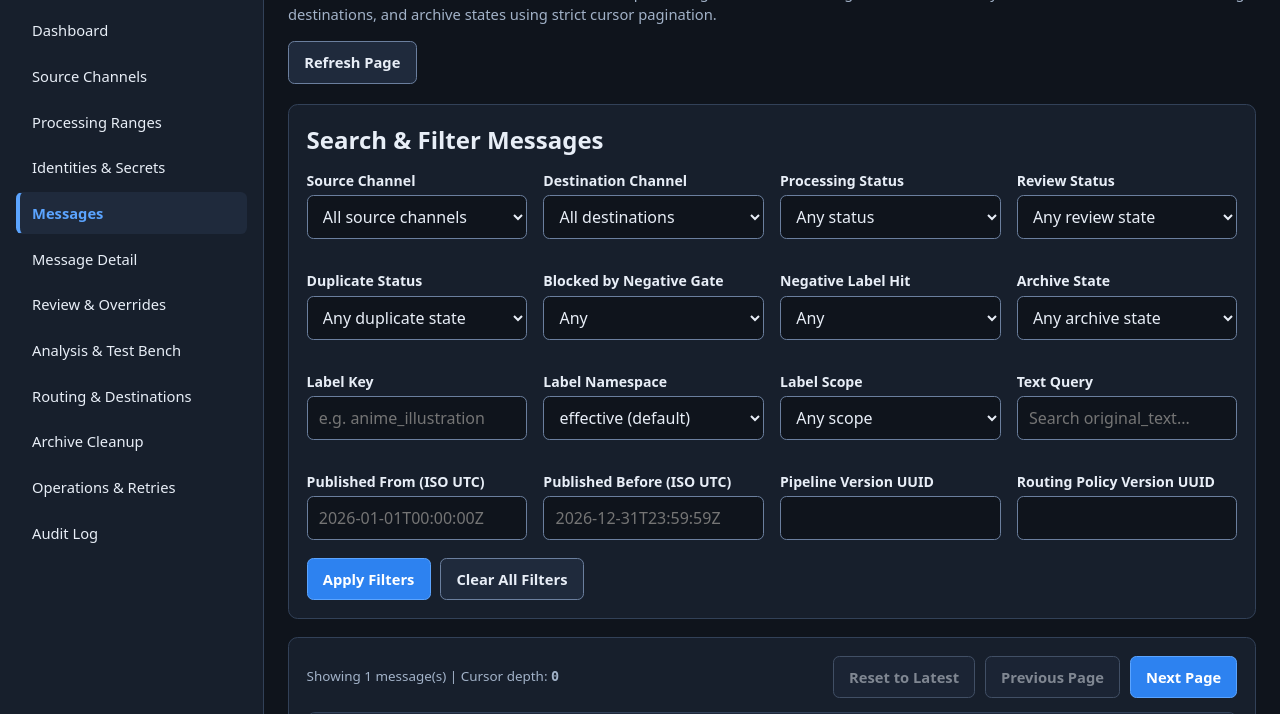
Test: TG-VLM-Curator M9 Web Administration Console › navigates cursor-paginated Messages into the 6-stage Causal Chain Inspector
// Advance cursor page and return
Click the button "Next Page" at point(1184, 677), box [1130,656,1237,698]
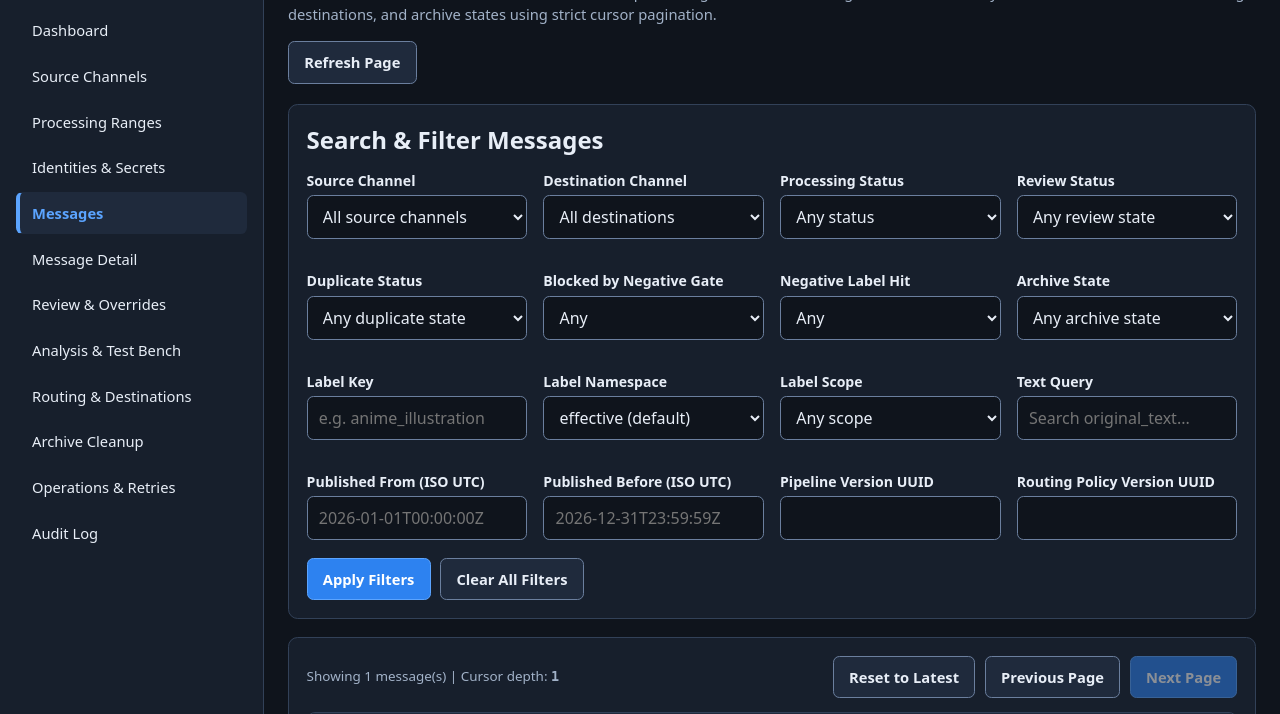
Click the button "Previous Page" at point(1052, 677), box [985,656,1120,698]
(page scrolled)
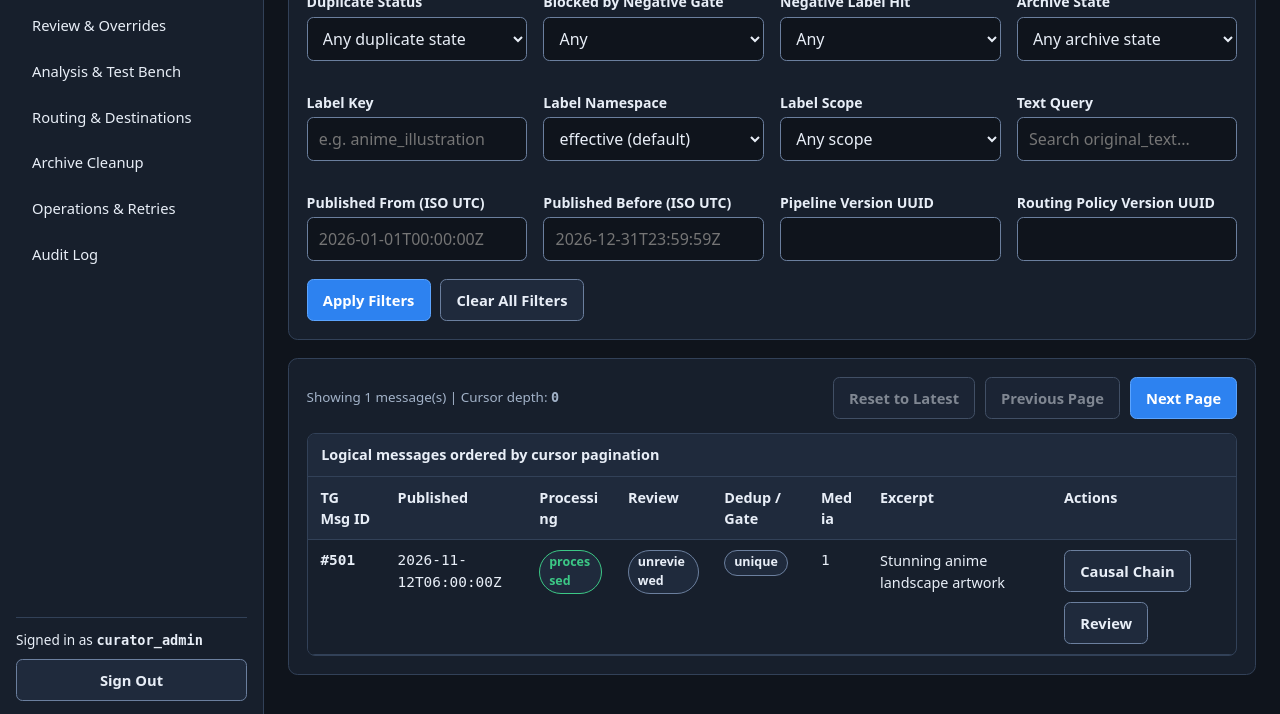
Result: the text "Stunning anime landscape artwork" is shown at [867,540,1051,655]
// Inspect causal chain
Click the button "Causal Chain" at point(1127, 571), box [1064,550,1191,592]
(page scrolled)
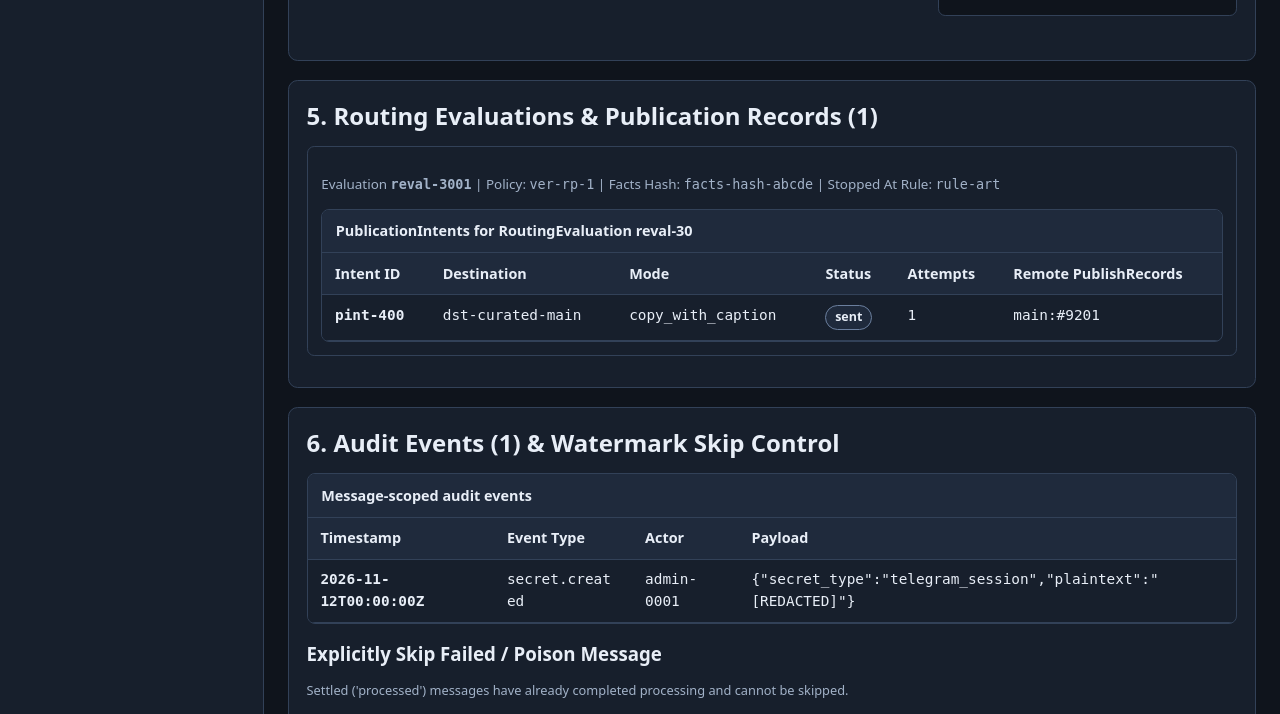
Result: the text "main:#9201" is shown at [1000,295,1222,341]
